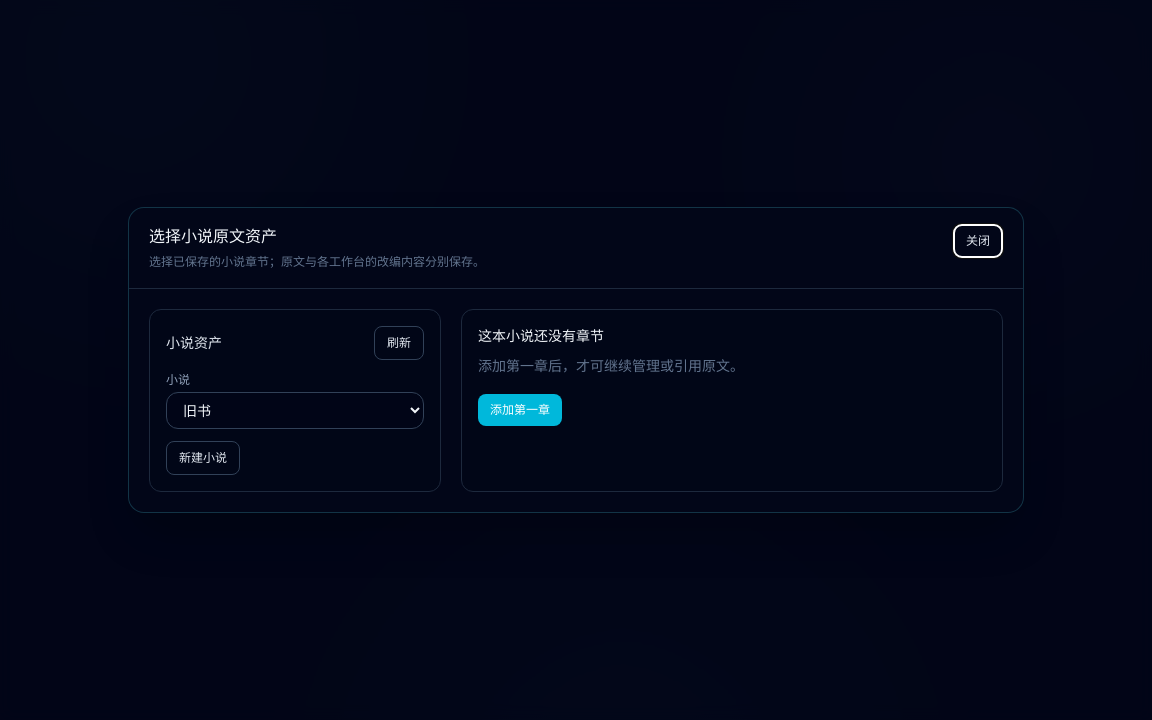
Test: NovelAssetManager › does not let a late response for an older work replace the current selection
Select "新书" in the dropdown named "小说资产" at (295,410), box [166, 392, 424, 429]
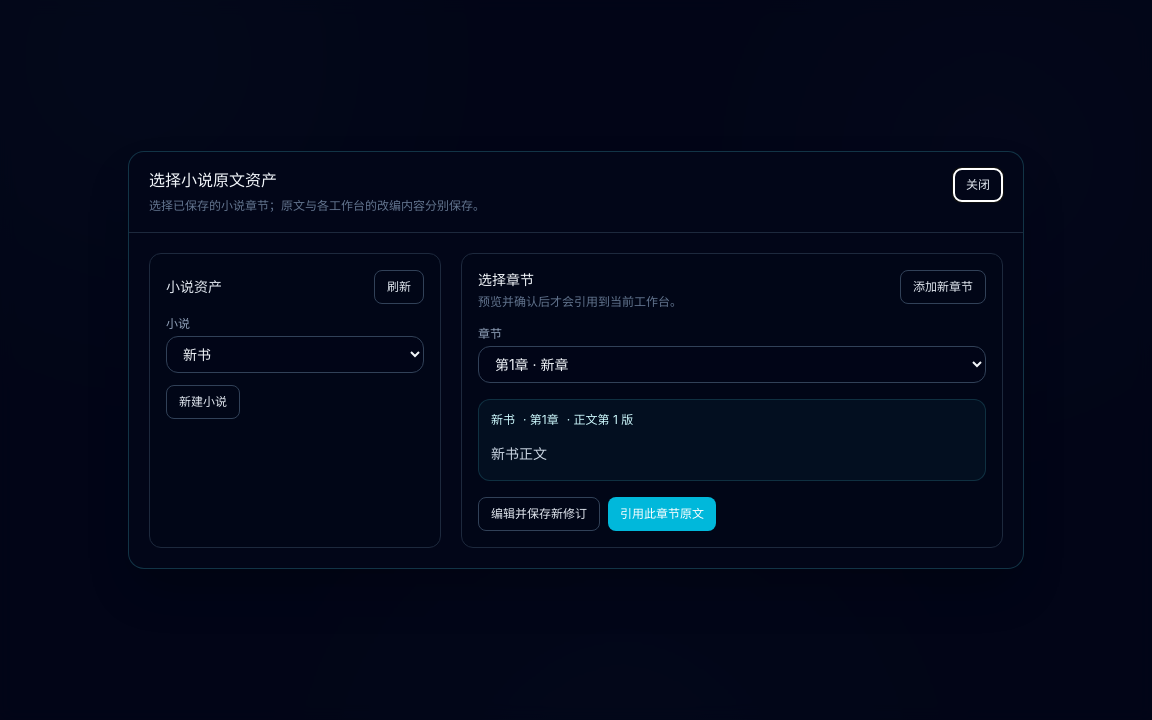
Expected: the text named "章节正文预览" reads "新书正文", [491, 444, 547, 463]
